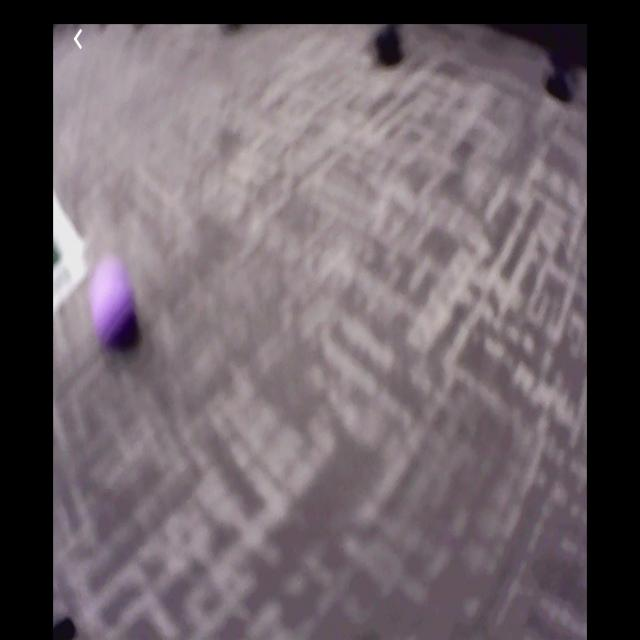ball: (91, 259, 136, 346)
